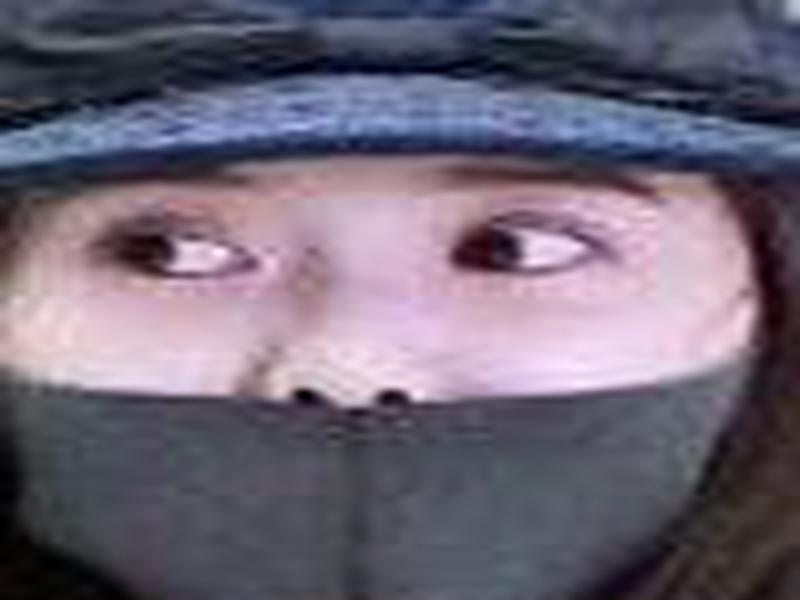with_mask: (1, 159, 759, 600)
